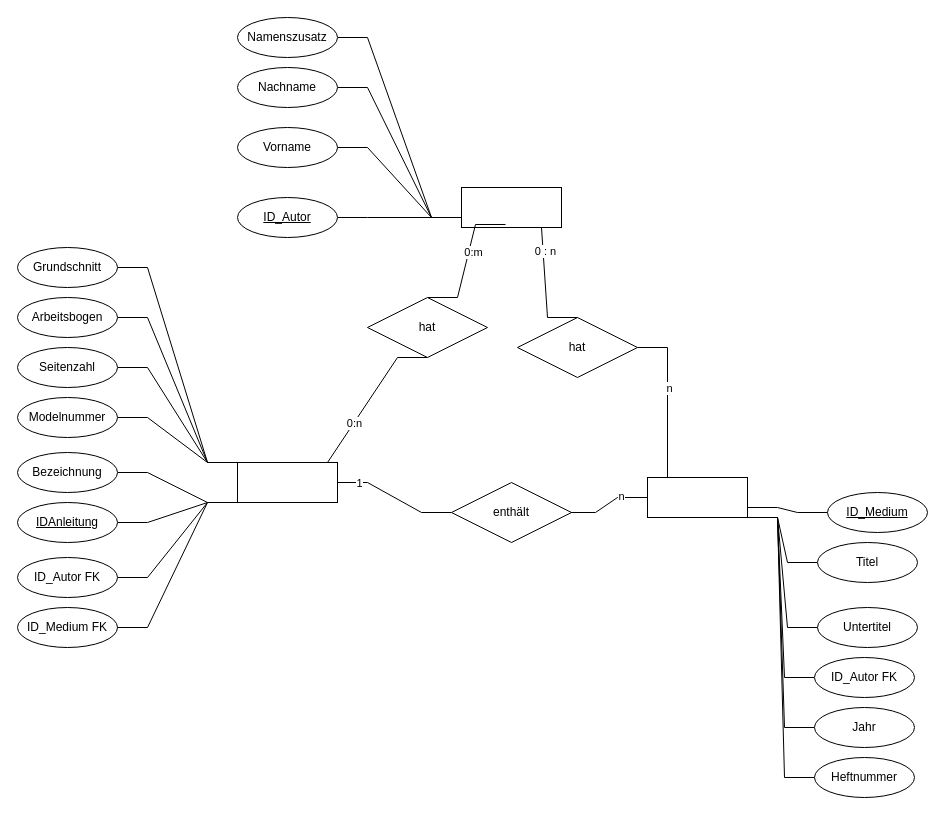
The diagram is 945 pixels wide and 815 high, and some of its shapes have lost their labels. Here are the shapes that lost their labels. From the top down, the centre of each, then its label:
At point 511,207: "Autor".
At point 287,482: "Anleitung".
At point 697,497: "Medium".
